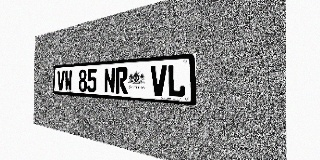5: (87, 69, 97, 93)
8: (78, 69, 87, 92)
L: (167, 64, 186, 98)
N: (104, 68, 115, 94)
R: (115, 67, 128, 94)
V: (150, 65, 167, 97), (57, 70, 64, 91)
W: (65, 70, 72, 91)
